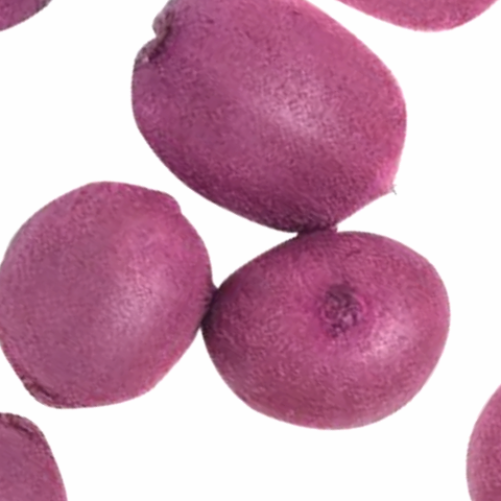kiwi: (144, 148, 501, 501), (59, 0, 477, 301), (0, 111, 258, 453)
